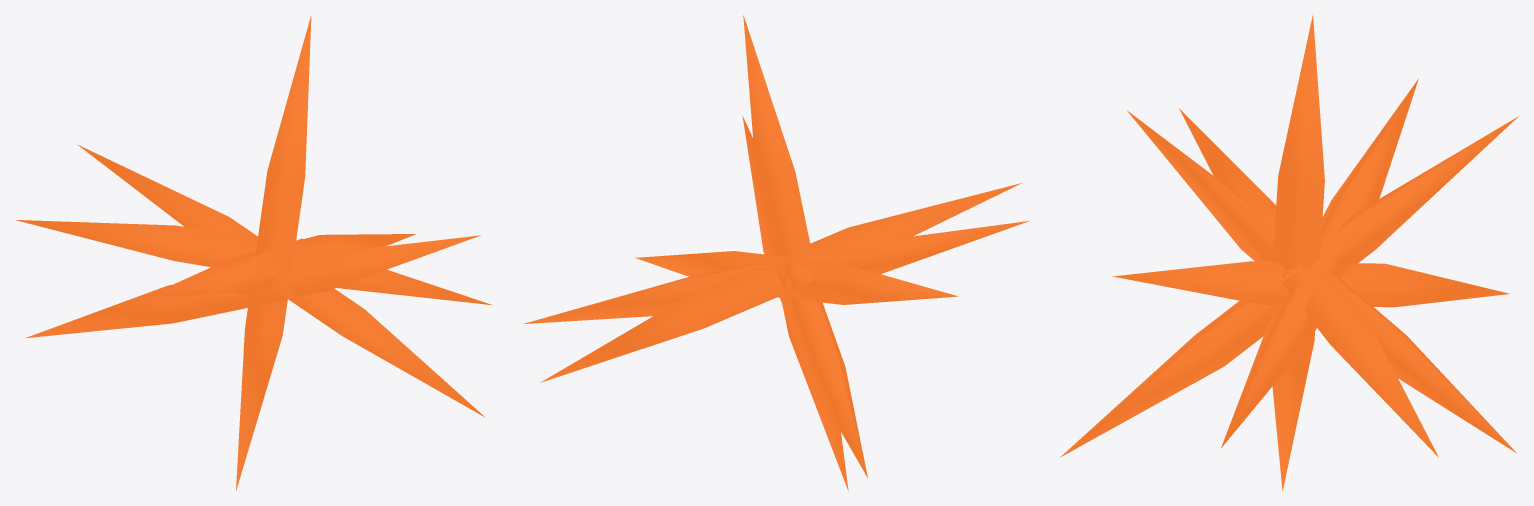
The model's file is spark3.glb.
The picture shows the model from 3 angles, left to right: view 1: azimuth 30°, elevation 25°; view 2: azimuth 150°, elevation 25°; view 3: azimuth 270°, elevation 25°; orthographic projection. The views are drawn at different scales.
Parts seen in each view (by area): view 1: Spark; view 2: Spark; view 3: Spark.
Boxes of the visible parts, x1=… form: Spark: x1=16, y1=15, x2=492, y2=490; Spark: x1=522, y1=15, x2=1029, y2=491; Spark: x1=1060, y1=15, x2=1518, y2=490.
Bounding box in the file's own units: 0.2118 × 0.22 × 0.1735.
